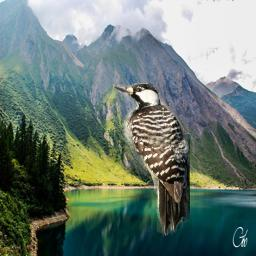Woodpecker: (113, 83, 190, 237)
